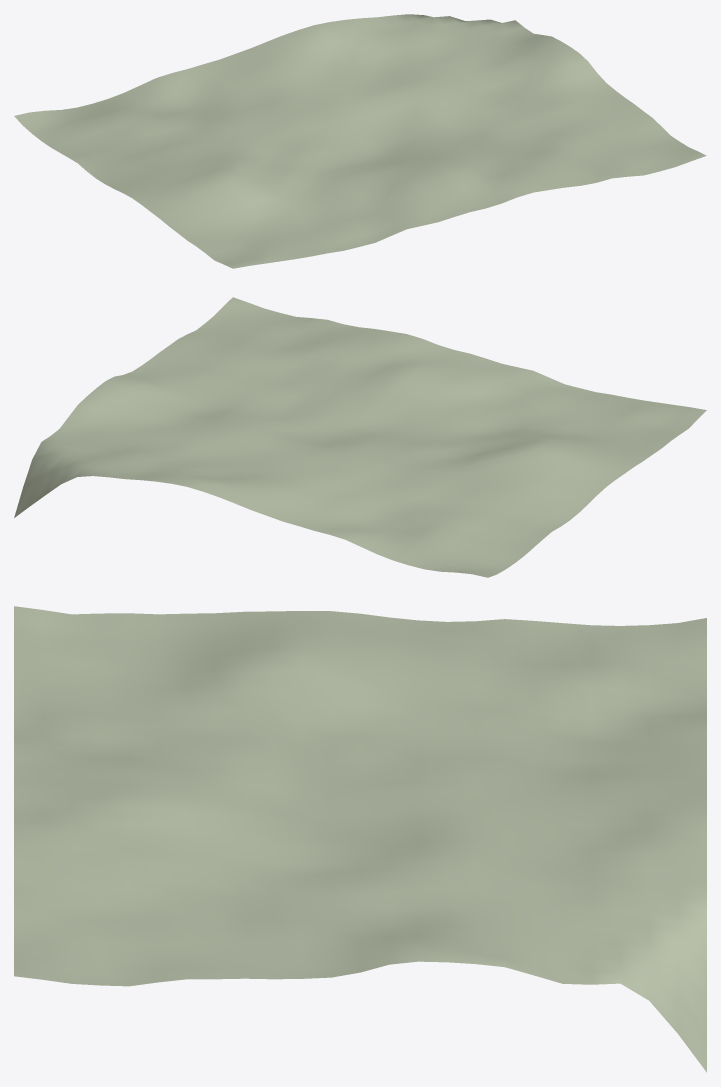
The picture shows the model from 3 angles, top to bottom: view 1: azimuth 30°, elevation 25°; view 2: azimuth 150°, elevation 25°; view 3: azimuth 270°, elevation 25°; orthographic projection. The views are drawn at different scales.
Visible parts, largest first — view 1: world-ground/90-72; view 2: world-ground/90-72; view 3: world-ground/90-72.
Part boxes in pixels (x1=…): world-ground/90-72: x1=14, y1=14, x2=706, y2=268; world-ground/90-72: x1=14, y1=297, x2=706, y2=577; world-ground/90-72: x1=14, y1=606, x2=706, y2=1072.
Size of the model in its own units: 37.5 by 5.57 by 30.
